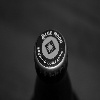beer: (32, 27, 71, 100)
